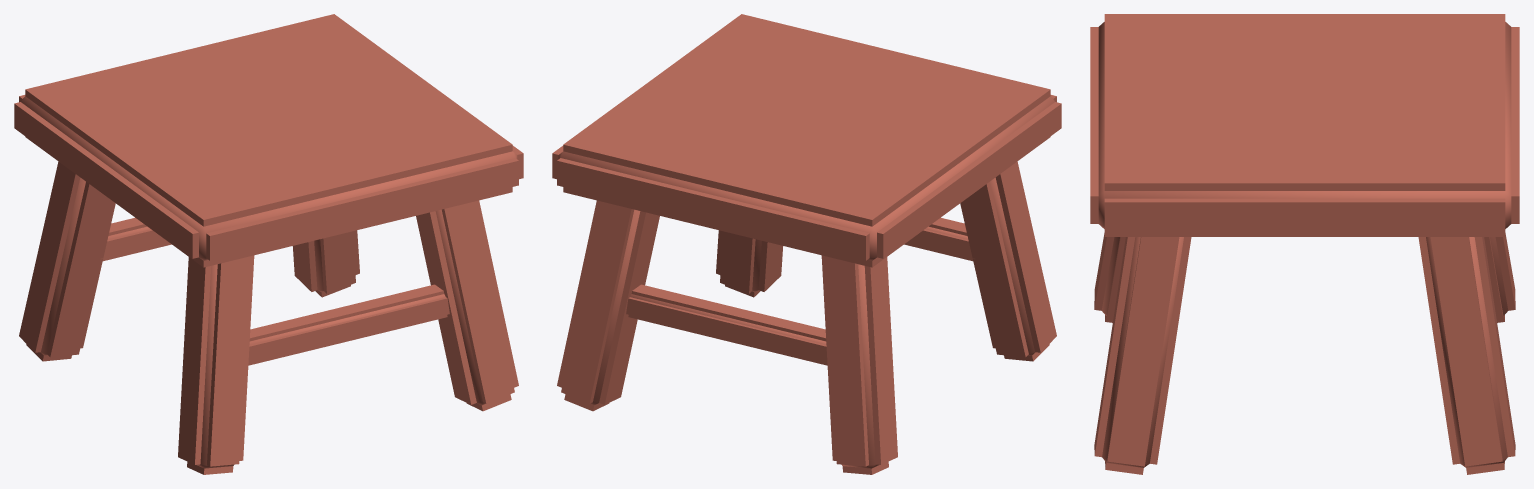
File: PlasticStoolLow.glb
3 views of the same model, side by side, from view 1: azimuth 30°, elevation 25°; view 2: azimuth 150°, elevation 25°; view 3: azimuth 270°, elevation 25° (orthographic). The views are drawn at different scales.
Parts seen in each view (by area): view 1: ST_PlasticStoolLow_ST_plastic_red.001; view 2: ST_PlasticStoolLow_ST_plastic_red.001; view 3: ST_PlasticStoolLow_ST_plastic_red.001.
Part boxes in pixels (box(x1,y1,x2,y2)): ST_PlasticStoolLow_ST_plastic_red.001: box(14, 14, 523, 474); ST_PlasticStoolLow_ST_plastic_red.001: box(552, 14, 1061, 474); ST_PlasticStoolLow_ST_plastic_red.001: box(1090, 14, 1519, 474).
Size of the model in its own units: 0.32 by 0.244 by 0.32.
